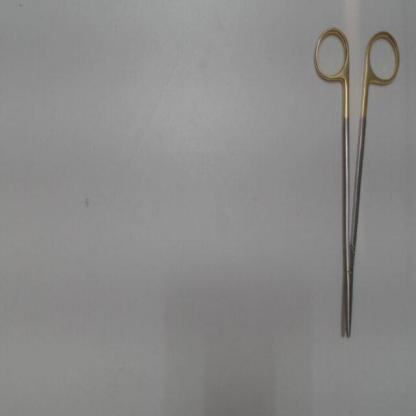7 Metzenbaum Scissors: (310, 19, 406, 342)
